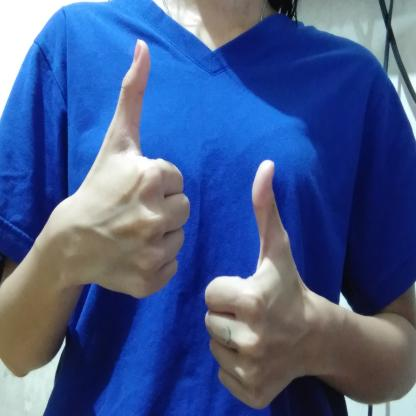which: (71, 34, 313, 415)
